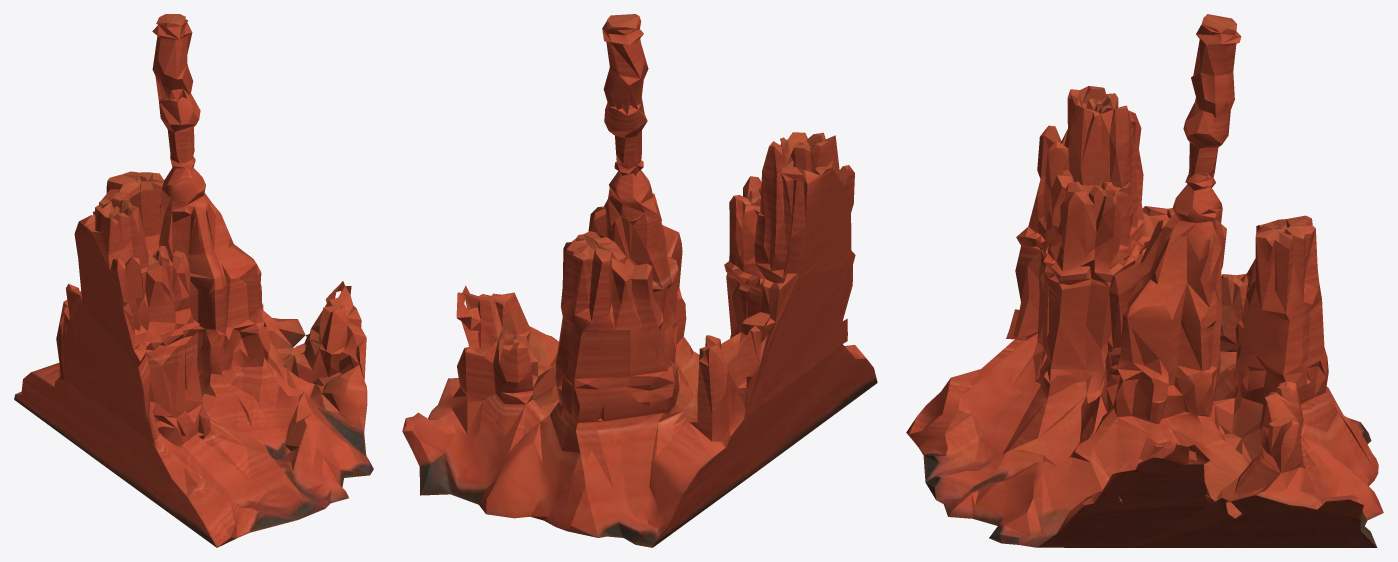
The model's file is red_rock_pillar.glb.
3 renders of one model, left to right at view 1: azimuth 30°, elevation 25°; view 2: azimuth 150°, elevation 25°; view 3: azimuth 270°, elevation 25°, orthographic. The views are drawn at different scales.
Size of the model in its own units: 1.44 by 1.9 by 1.76.
Materials: 1 (1 with a texture image).
